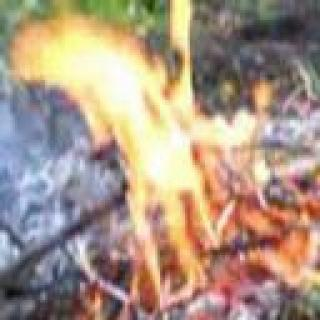fire: (8, 27, 228, 211), (124, 117, 320, 320)
